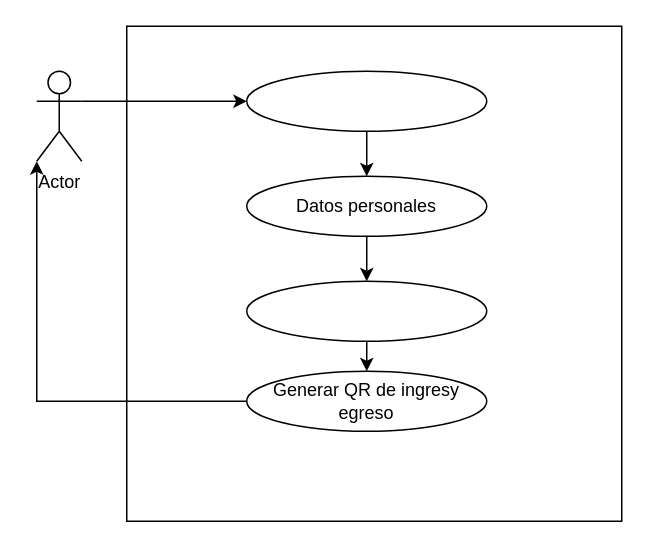
The diagram is 648 pixels wide and 548 high, and some of its shapes have lost their labels. Here are the shapes that lost their labels. From the top down, the centre of each, then its label:
At point 366,100: "Registrar inquilino nuevo".
At point 366,310: "Datos de aqluiler".
